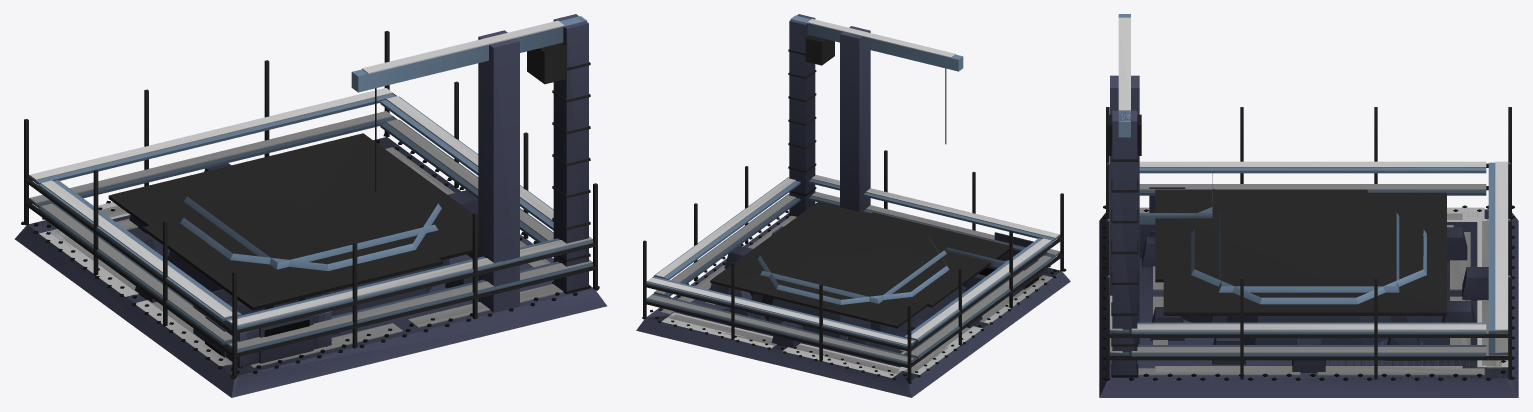
The model's file is veyran_advanced_defences_scaffolding.glb.
3 renders of one model, left to right at view 1: azimuth 30°, elevation 25°; view 2: azimuth 150°, elevation 25°; view 3: azimuth 270°, elevation 25°, orthographic. The views are drawn at different scales.
Parts seen in each view (by area): view 1: body (×3); view 2: body (×3); view 3: body (×3).
Boxes of the visible parts, x1=… form: body (×3): x1=15, y1=14, x2=606, y2=397; body (×3): x1=636, y1=14, x2=1070, y2=397; body (×3): x1=1099, y1=14, x2=1518, y2=397.
Bounding box in the file's own units: 7.4 × 5.3 × 7.4.
